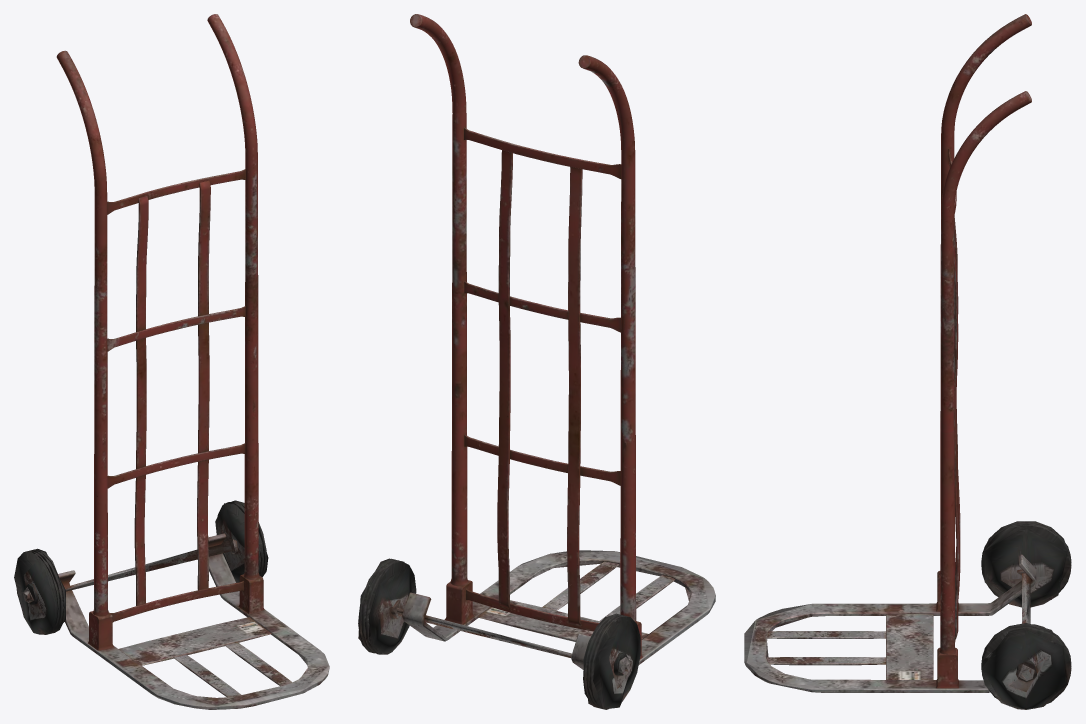
Rendered from hand_truck.glb.
The picture shows the model from 3 angles, left to right: view 1: azimuth 30°, elevation 25°; view 2: azimuth 150°, elevation 25°; view 3: azimuth 270°, elevation 25°; orthographic projection. The views are drawn at different scales.
Visible parts, largest first — view 1: hand_truck; view 2: hand_truck; view 3: hand_truck.
Part boxes in pixels (x1,y1,x2,y2): hand_truck: [14, 14, 329, 709]; hand_truck: [358, 14, 715, 709]; hand_truck: [744, 14, 1071, 709].
Size of the model in its own units: 0.5933 by 1.4 by 0.6908.
Materials: 1 (1 with a texture image).
